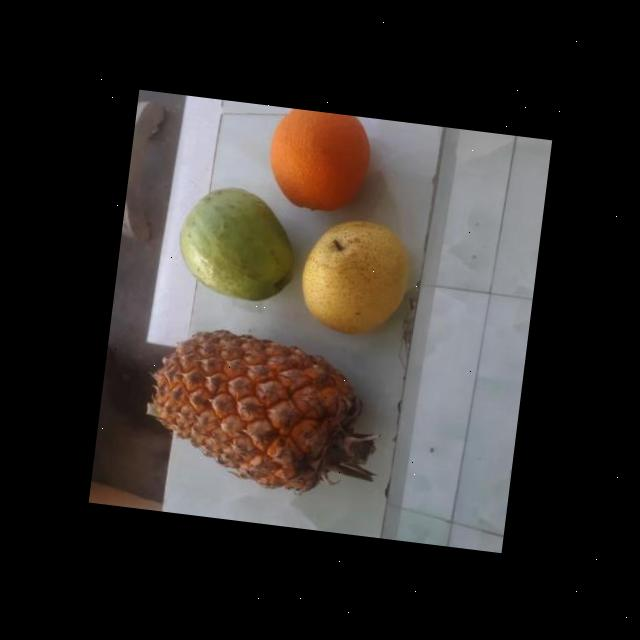guava: (174, 182, 300, 308)
orange: (264, 105, 372, 218)
pear: (296, 211, 414, 345)
pineapple: (144, 332, 368, 496)
